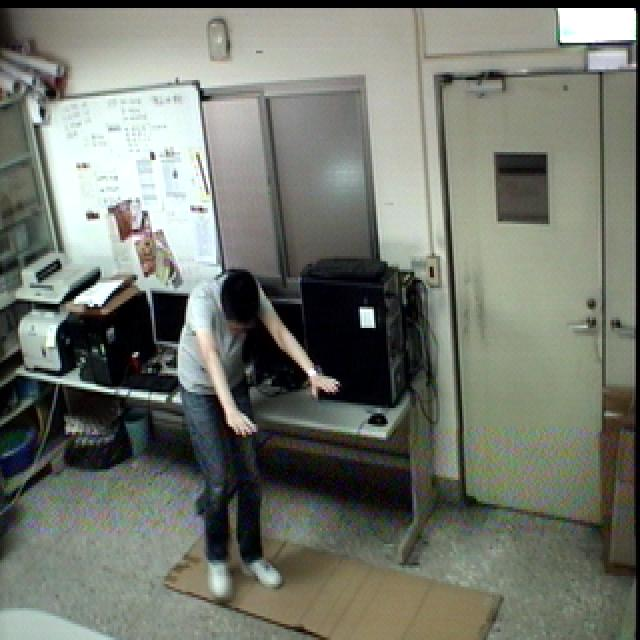bend: (172, 267, 336, 606)
